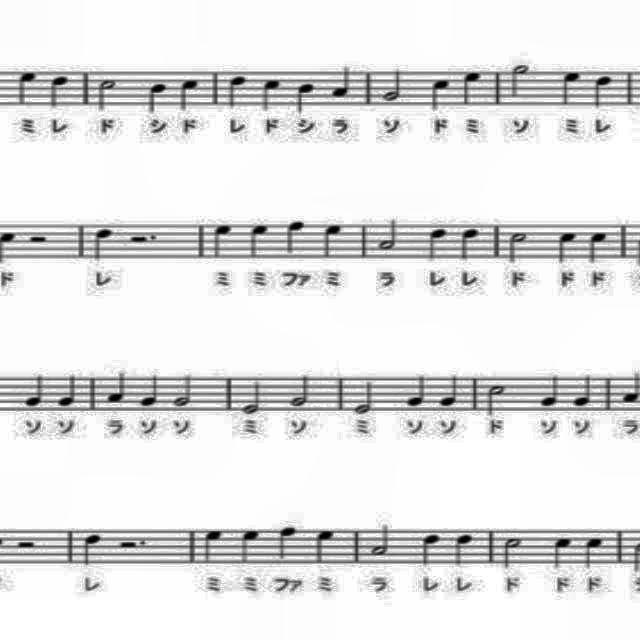Half-note: (349, 370, 379, 422), (480, 373, 510, 419), (376, 64, 412, 102), (238, 368, 264, 420), (168, 370, 198, 410), (501, 228, 532, 264), (509, 61, 533, 107), (496, 533, 524, 571), (96, 73, 120, 117), (288, 368, 312, 412), (377, 219, 403, 253), (368, 523, 392, 559)
Half-rest: (115, 531, 154, 555), (125, 228, 164, 248), (12, 532, 40, 552), (26, 227, 54, 247)
Quarter-note: (206, 222, 238, 266), (282, 215, 314, 259), (244, 221, 274, 267), (432, 368, 463, 412), (590, 66, 618, 114), (569, 371, 599, 414), (223, 68, 251, 114), (272, 522, 300, 568), (422, 219, 448, 267), (312, 523, 338, 571), (178, 72, 206, 116), (557, 66, 585, 110), (103, 364, 131, 408), (236, 524, 264, 568), (580, 530, 608, 574), (18, 371, 48, 411), (13, 64, 39, 110), (330, 59, 356, 105), (554, 226, 582, 268), (416, 526, 442, 570), (449, 528, 475, 572), (89, 226, 117, 266), (402, 372, 430, 412), (539, 371, 565, 414), (459, 223, 485, 264), (458, 69, 486, 107), (54, 372, 82, 410), (322, 220, 346, 264), (78, 529, 104, 569), (292, 78, 320, 114), (585, 229, 611, 267), (426, 72, 448, 116), (46, 70, 70, 110), (202, 526, 226, 566), (550, 530, 574, 570), (139, 374, 161, 414), (146, 80, 170, 116), (618, 367, 640, 405), (262, 74, 282, 114)
